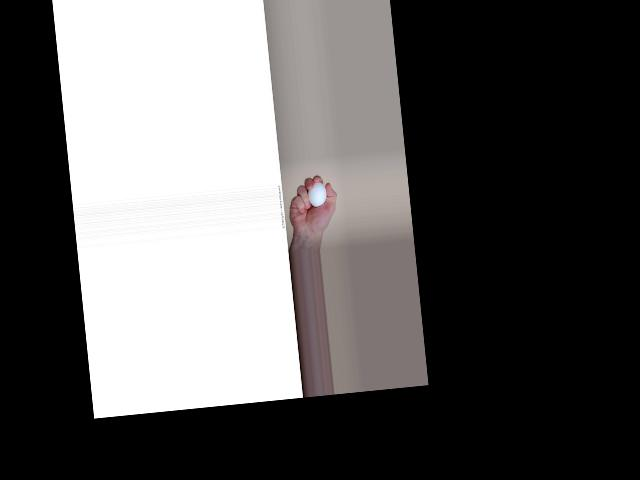egg: (307, 182, 327, 208)
